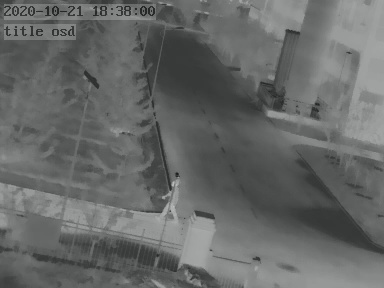person: (163, 181, 180, 221)
